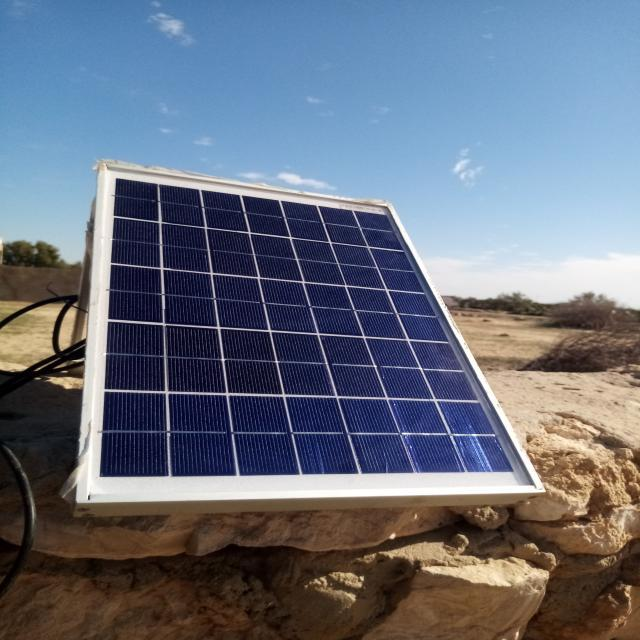no faulty: (78, 165, 542, 503)
